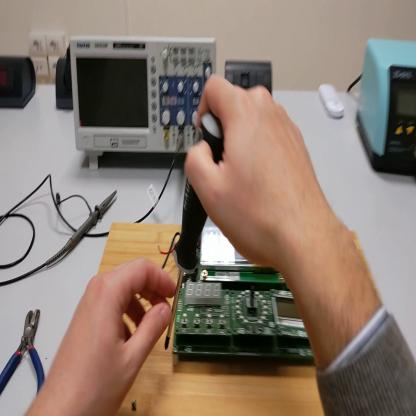hand: (186, 74, 322, 269), (50, 258, 176, 416)
low voltage board: (159, 216, 314, 359)
oscilloscope: (71, 35, 218, 175)
oscilloscope probe tip: (49, 190, 119, 265)
pliers: (1, 309, 44, 392)
screwdriver-: (163, 117, 228, 349)
socket: (1, 53, 38, 113), (56, 56, 74, 112)
welder station: (358, 37, 416, 176)
working area: (92, 222, 324, 412)
